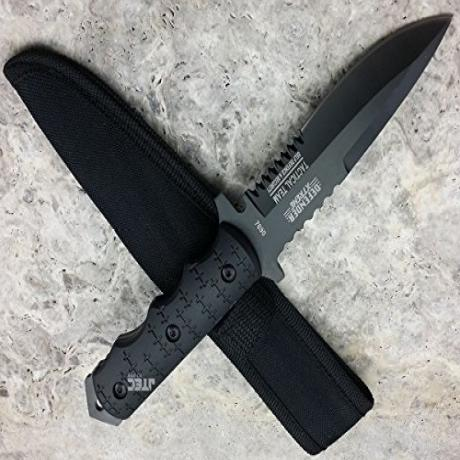weapon: (84, 14, 452, 422)
